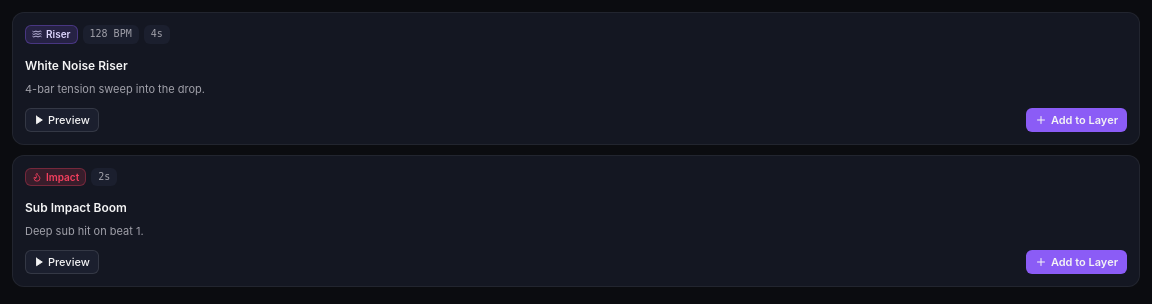
Scenario: SoundsTab › toggles preview play/stop and cleans up audio src on stop and unmount
The width and height of the screenshot is (1152, 304).
Click the button "Preview" below "4-bar tension sweep into the drop.".
click(62, 120)  # box [25,108,99,132]
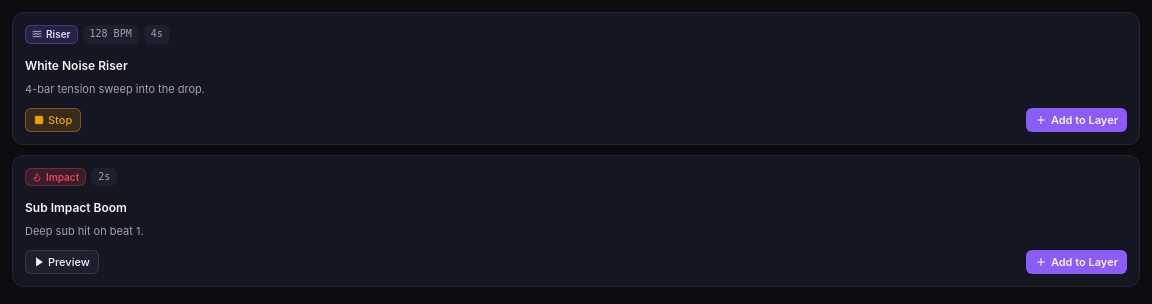
Check: the button "Stop" is shown
Click the button "Stop".
click(53, 120)  # box [25,108,81,132]
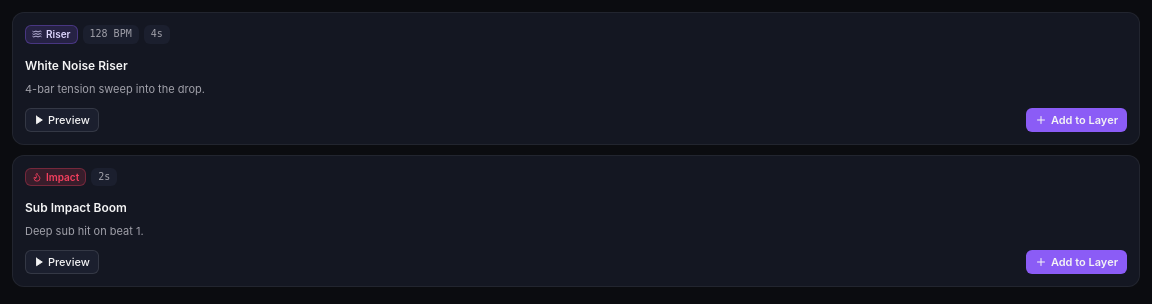
Check: the button "Stop" is gone
